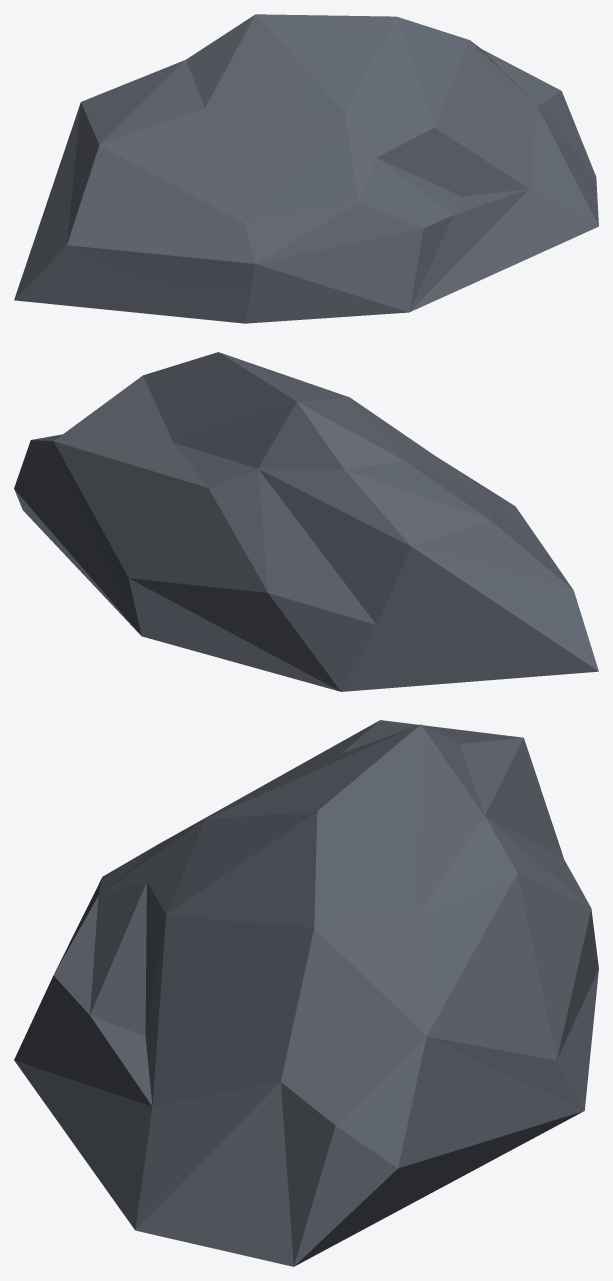
Rendered from Rock_4.fbx.
3 renders of one model, top to bottom at view 1: azimuth 30°, elevation 25°; view 2: azimuth 150°, elevation 25°; view 3: azimuth 270°, elevation 25°, orthographic. The views are drawn at different scales.
Visible parts, largest first — view 1: Rock_4; view 2: Rock_4; view 3: Rock_4.
Boxes of the visible parts, bbox=[...] form: Rock_4: bbox=[14, 14, 598, 323]; Rock_4: bbox=[14, 352, 598, 691]; Rock_4: bbox=[14, 720, 598, 1266].
Size of the model in its own units: 1900 by 668 by 1109.
